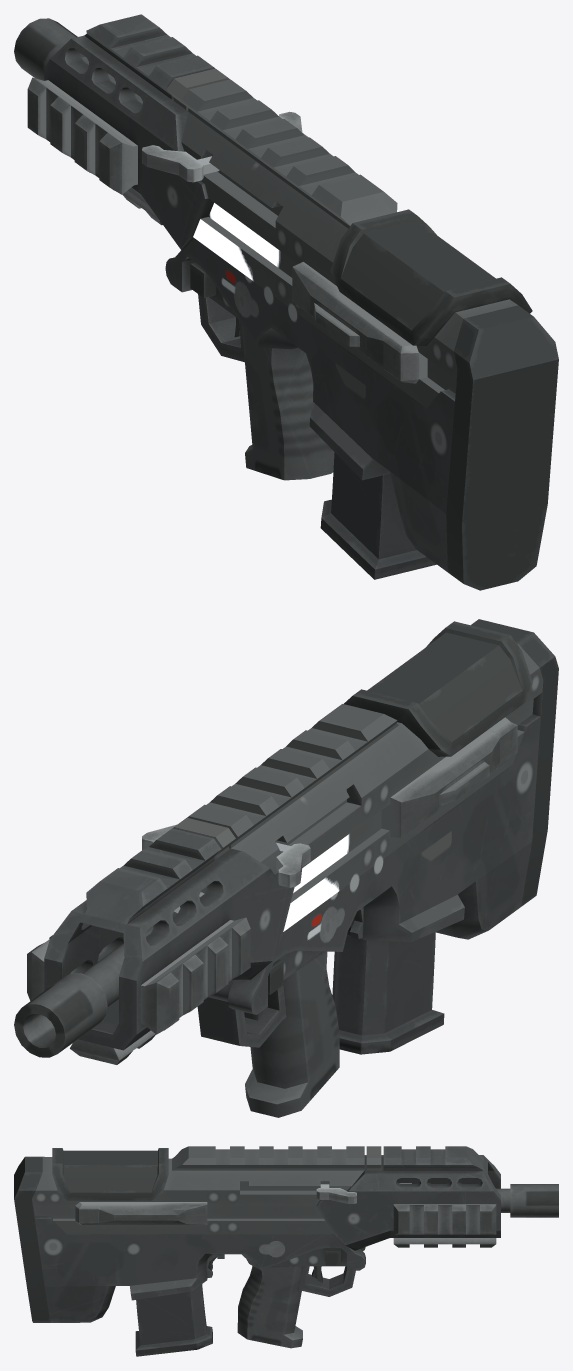
The model's file is IG_Gun_DTDMR762.fbx.
3 renders of one model, top to bottom at view 1: azimuth 30°, elevation 25°; view 2: azimuth 150°, elevation 25°; view 3: azimuth 270°, elevation 25°, orthographic. The views are drawn at different scales.
Parts seen in each view (by area): view 1: Pfb_WPN_DTMDR762; view 2: Pfb_WPN_DTMDR762, ShowIf_Tec; view 3: Pfb_WPN_DTMDR762, ShowIf_Tec.
Part boxes in pixels (x1,y1,x2,y2): Pfb_WPN_DTMDR762: (14,14,558,590); Pfb_WPN_DTMDR762: (14,619,558,1117); ShowIf_Tec: (27,935,104,1000); Pfb_WPN_DTMDR762: (14,1146,558,1356); ShowIf_Tec: (393,1204,496,1234).
Size of the model in its own units: 0.1818 by 0.3857 by 0.9768.
